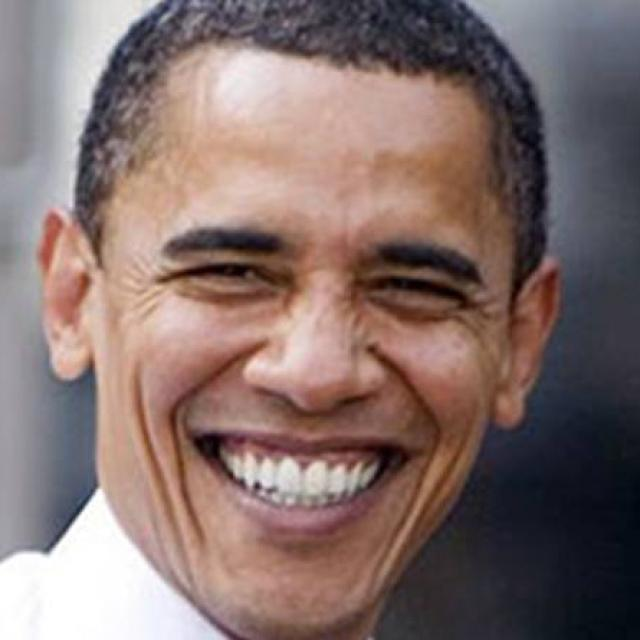Normal: (97, 61, 513, 639)
